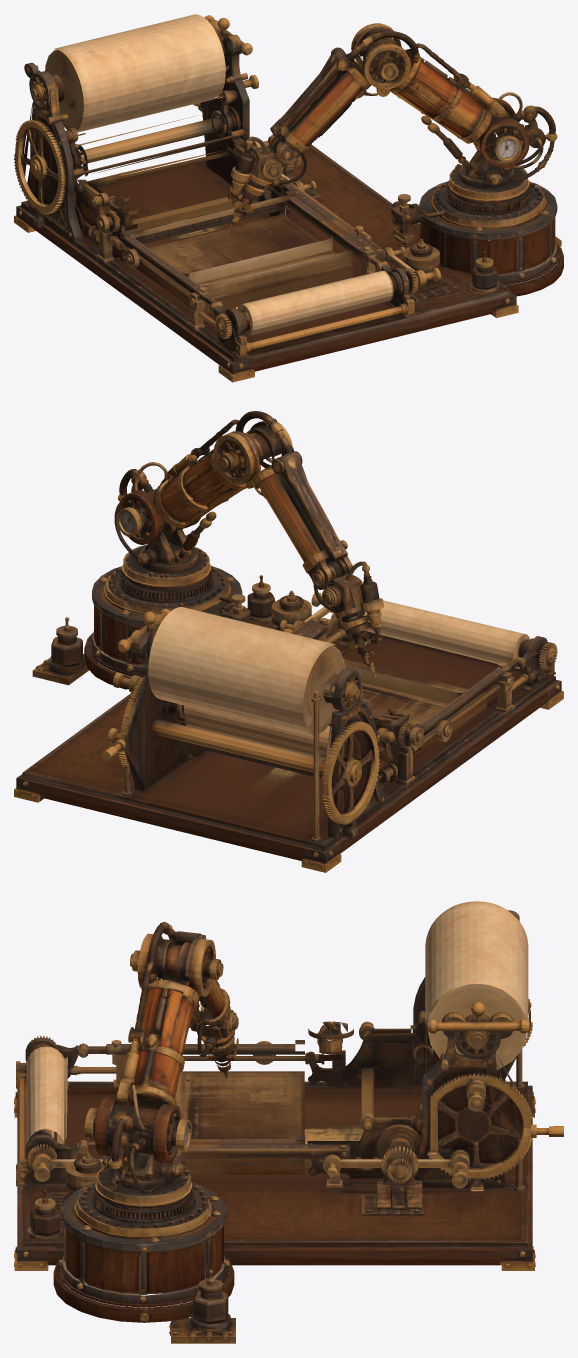
The model's file is machine.glb.
3 views of the same model, one above another, from view 1: azimuth 30°, elevation 25°; view 2: azimuth 150°, elevation 25°; view 3: azimuth 270°, elevation 25° (orthographic). The views are drawn at different scales.
Parts seen in each view (by area): view 1: Static, RollAssembly, Arm_Upper, Arm_Base, FrontAssembly, Arm_Fore, Arm_Pen; view 2: Static, Arm_Upper, RollAssembly, Arm_Base, FrontAssembly, Arm_Pen, Arm_Fore; view 3: Static, Arm_Upper, RollAssembly, Arm_Base, FrontAssembly, Arm_Pen, Arm_Fore.
Boxes of the visible parts, left/top/right/bottom form: Static: left=14, top=15, right=563, bottom=382; RollAssembly: left=45, top=14, right=225, bottom=131; Arm_Upper: left=346, top=23, right=543, bottom=157; Arm_Base: left=447, top=92, right=557, bottom=202; FrontAssembly: left=235, top=270, right=396, bottom=336; Arm_Fore: left=250, top=47, right=378, bottom=159; Arm_Pen: left=227, top=125, right=309, bottom=233; Static: left=14, top=565, right=563, bottom=872; Arm_Upper: left=131, top=411, right=292, bottom=549; RollAssembly: left=153, top=607, right=344, bottom=734; Arm_Base: left=114, top=462, right=210, bottom=588; FrontAssembly: left=363, top=600, right=529, bottom=669; Arm_Pen: left=302, top=544, right=384, bottom=678; Arm_Fore: left=256, top=445, right=364, bottom=574; Static: left=14, top=910, right=563, bottom=1343; Arm_Upper: left=104, top=922, right=223, bottom=1165; RollAssembly: left=425, top=901, right=526, bottom=1070; Arm_Base: left=84, top=1084, right=192, bottom=1208; FrontAssembly: left=26, top=1046, right=67, bottom=1144; Arm_Pen: left=189, top=981, right=238, bottom=1078; Arm_Fore: left=176, top=931, right=225, bottom=1054.
Size of the model in its own units: 3.71 by 2.32 by 3.7.
1 material, 1 textured.
